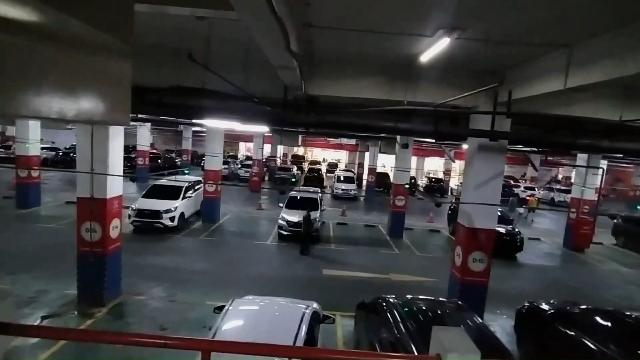empty: (200, 212, 278, 244), (330, 220, 398, 252), (402, 225, 453, 257)
occupied: (126, 182, 200, 238), (270, 192, 332, 248)
